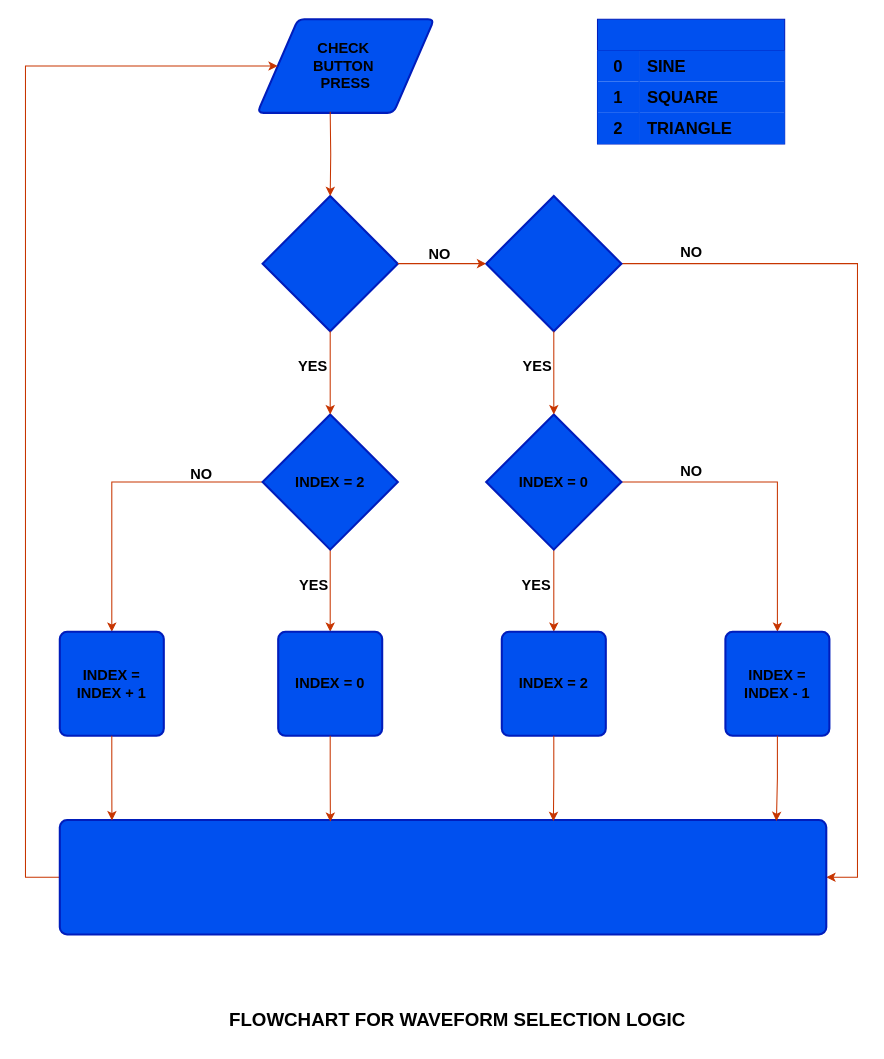
Some shapes in this 884 by 1059 pixel diagram are drawn without their labels. Here are the shapes that lost their labels. From the top down, the box of each, then its label:
(596, 18, 785, 144): WAVE INDEX
(261, 194, 398, 332): TOP BUTTON SHORT PRESS
(485, 194, 622, 332): BOTTOM BUTTON SHORT PRESS
(58, 818, 827, 935): UPDATE WAVEFORM DISPLAY
